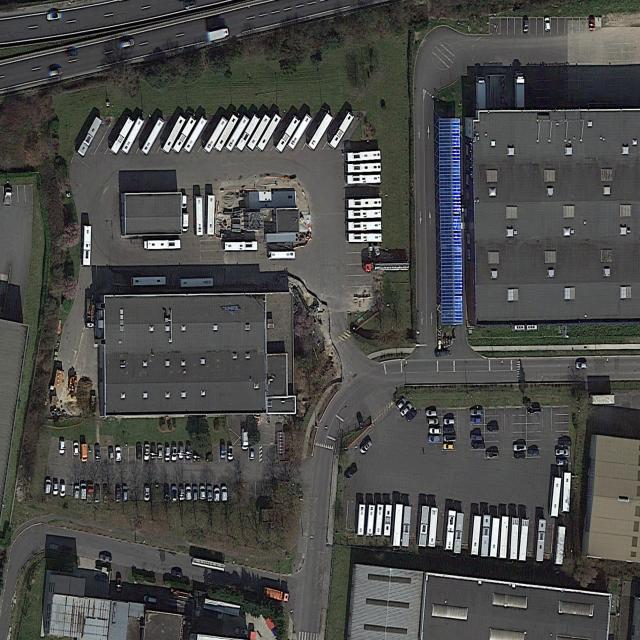large-vehicle: (110, 116, 135, 156), (77, 117, 102, 157), (275, 115, 301, 153), (308, 112, 334, 150), (329, 111, 355, 149), (204, 115, 229, 154), (257, 113, 282, 152), (141, 116, 165, 156), (236, 113, 260, 153), (225, 114, 250, 152), (247, 113, 272, 151), (287, 113, 312, 151), (184, 115, 208, 154), (173, 115, 197, 154), (215, 114, 239, 152), (163, 115, 186, 153), (122, 116, 145, 154), (534, 517, 547, 562), (479, 513, 492, 557), (517, 518, 530, 562), (549, 476, 562, 519), (444, 509, 457, 551), (391, 502, 403, 547), (469, 515, 482, 556), (508, 517, 520, 560), (418, 505, 430, 548), (560, 470, 572, 513), (363, 261, 409, 272), (489, 517, 501, 559), (427, 507, 439, 548), (498, 516, 509, 560), (554, 525, 566, 565), (345, 150, 382, 162), (264, 587, 290, 604), (222, 240, 258, 252), (402, 505, 412, 547), (514, 71, 525, 109), (454, 513, 464, 554), (82, 226, 92, 267), (345, 162, 382, 173), (345, 197, 382, 208), (346, 232, 383, 243), (345, 174, 381, 185), (346, 208, 382, 219), (475, 75, 486, 110), (131, 276, 166, 287), (179, 277, 214, 288), (144, 240, 181, 250), (345, 221, 382, 231), (196, 196, 205, 237), (207, 195, 216, 235), (366, 504, 376, 537), (375, 504, 385, 536), (85, 298, 95, 330), (267, 249, 296, 260), (383, 504, 392, 536), (357, 504, 366, 536)
small-vehicle: (205, 25, 230, 43), (343, 462, 360, 481), (359, 437, 374, 455), (2, 187, 14, 208), (399, 401, 413, 419), (120, 37, 136, 50), (405, 408, 418, 423), (394, 396, 407, 411), (143, 593, 158, 606), (182, 211, 190, 234), (48, 66, 64, 77), (170, 567, 184, 579), (46, 11, 61, 22), (99, 552, 114, 563), (226, 443, 235, 461), (241, 427, 248, 450), (86, 483, 94, 503), (44, 478, 53, 495), (114, 574, 123, 591), (80, 442, 87, 463), (58, 437, 66, 455), (66, 47, 79, 58), (94, 484, 101, 504), (234, 627, 249, 636), (543, 17, 552, 32), (471, 442, 486, 451), (72, 485, 81, 500), (143, 443, 150, 462), (163, 483, 170, 502), (102, 483, 109, 502), (575, 360, 588, 370), (114, 446, 122, 462), (192, 445, 200, 461), (136, 443, 143, 461), (443, 434, 457, 443), (486, 450, 500, 459), (528, 406, 542, 415), (558, 438, 572, 447), (171, 485, 178, 503), (144, 484, 151, 502), (122, 485, 129, 503), (115, 484, 122, 502), (80, 483, 87, 501), (206, 484, 213, 502), (220, 441, 227, 459), (107, 445, 115, 460), (213, 488, 221, 503), (181, 193, 188, 210), (589, 14, 596, 31), (523, 15, 530, 32), (185, 442, 192, 459), (178, 484, 185, 501), (221, 486, 228, 503), (443, 417, 456, 426), (425, 408, 438, 417), (514, 443, 527, 452), (171, 443, 177, 462), (94, 445, 101, 461), (150, 444, 157, 460), (471, 408, 485, 416), (429, 427, 443, 435), (165, 444, 171, 462), (487, 423, 499, 432), (442, 443, 454, 452), (528, 448, 540, 457), (185, 486, 192, 501), (192, 486, 199, 501), (199, 485, 206, 500), (471, 434, 484, 442), (428, 434, 441, 442), (443, 426, 456, 434), (426, 417, 439, 425), (515, 450, 526, 459), (555, 448, 569, 455), (59, 483, 66, 497), (556, 458, 568, 466), (249, 445, 255, 461), (52, 480, 58, 495), (471, 417, 482, 425), (157, 445, 163, 459), (179, 443, 184, 459), (73, 443, 79, 456)
